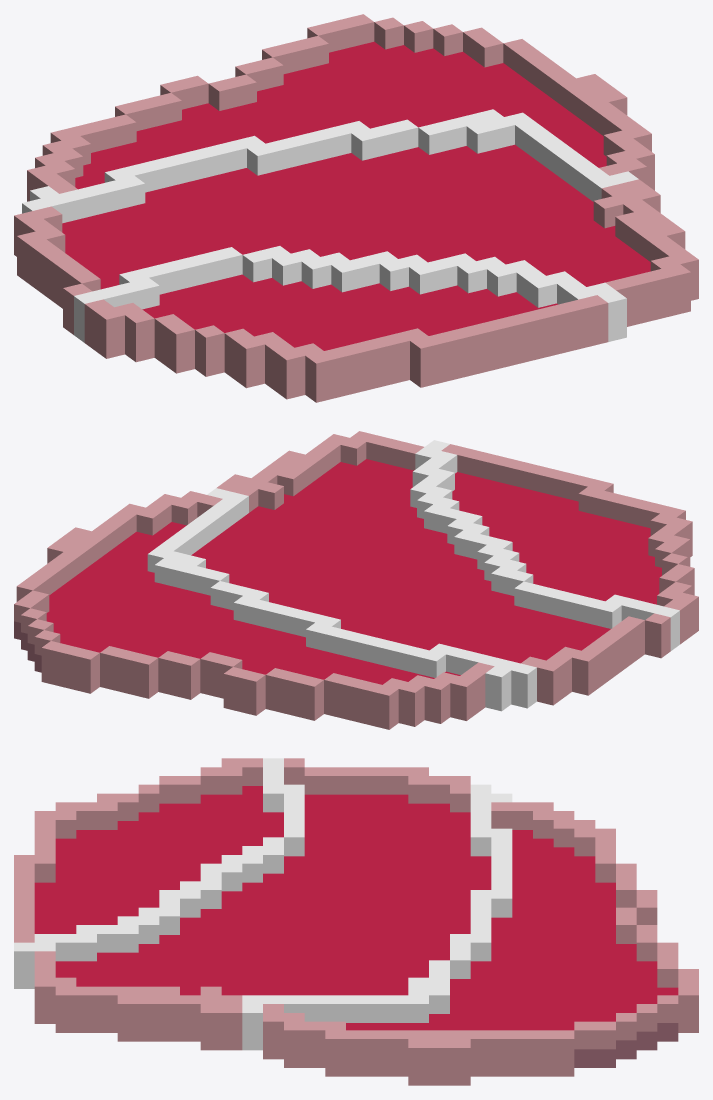
File: Beef.obj
3 renders of one model, top to bottom at view 1: azimuth 30°, elevation 25°; view 2: azimuth 150°, elevation 25°; view 3: azimuth 270°, elevation 25°, orthographic. The views are drawn at different scales.
Bounding box in the file's own units: 3.3 × 0.2 × 3.3.
1 material, 1 textured.
